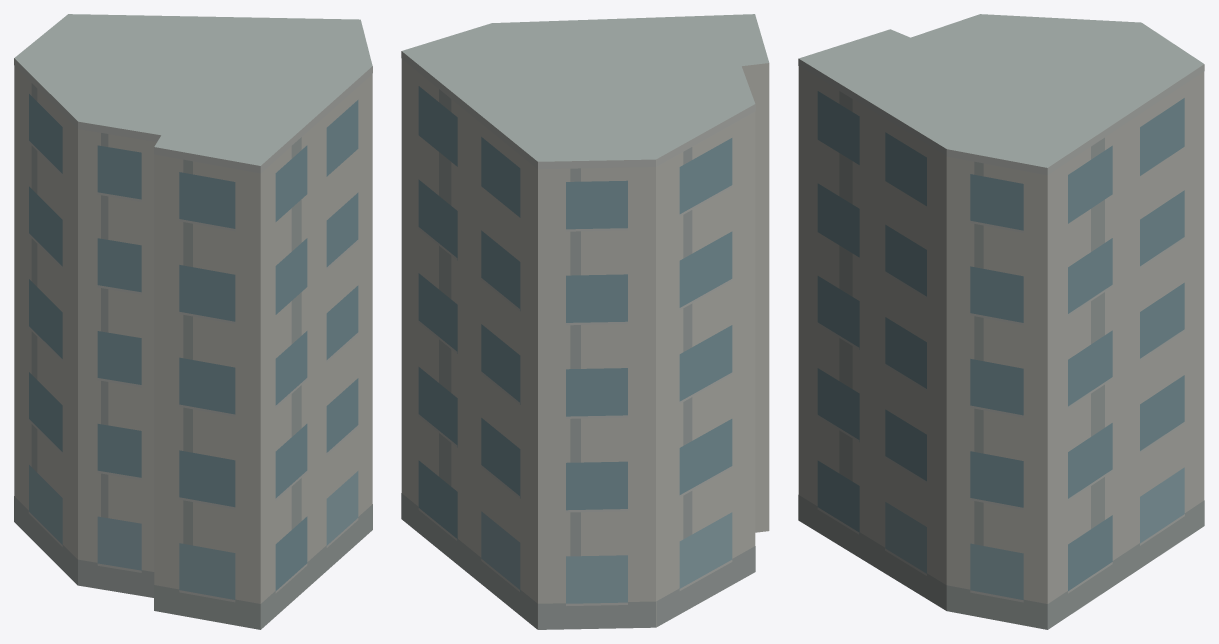
Rendered from survey-upis-32954995.glb.
3 renders of one model, left to right at view 1: azimuth 30°, elevation 25°; view 2: azimuth 150°, elevation 25°; view 3: azimuth 270°, elevation 25°, orthographic.
Parts seen in each view (by area): view 1: survey-upis-32954995.tmp; view 2: survey-upis-32954995.tmp; view 3: survey-upis-32954995.tmp.
Boxes of the visible parts, x1=… form: survey-upis-32954995.tmp: x1=14, y1=14, x2=372, y2=629; survey-upis-32954995.tmp: x1=401, y1=14, x2=769, y2=629; survey-upis-32954995.tmp: x1=798, y1=14, x2=1204, y2=629.
Bounding box in the file's own units: 10.91 × 15.25 × 12.15.
